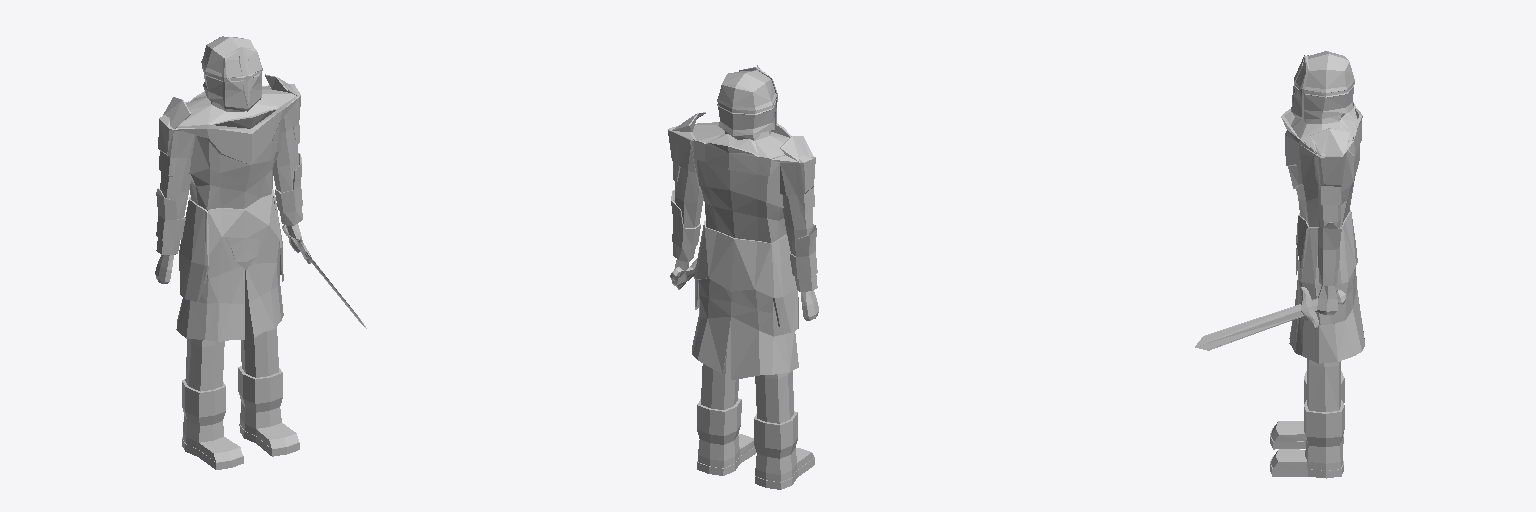
The model's file is рыцарь.obj.
The picture shows the model from 3 angles: view 1: azimuth 30°, elevation 25°; view 2: azimuth 150°, elevation 25°; view 3: azimuth 270°, elevation 25°; orthographic projection.
Visible parts, largest first — view 1: Knight; view 2: Knight; view 3: Knight.
Part boxes in pixels (x1,y1,x2,y2): Knight: (155, 36, 366, 469); Knight: (668, 65, 818, 489); Knight: (1195, 51, 1364, 478).
Size of the model in its own units: 1.79 by 4.73 by 1.82.